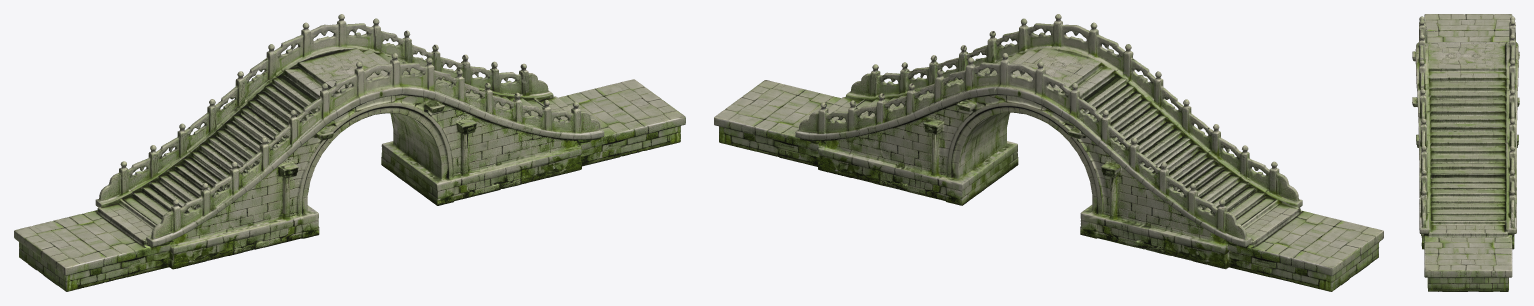
The model's file is Meshy_AI_Ancient_Stone_Arch_Br_1016064107_texture.fbx.
The picture shows the model from 3 angles, left to right: view 1: azimuth 30°, elevation 25°; view 2: azimuth 150°, elevation 25°; view 3: azimuth 270°, elevation 25°; orthographic projection. The views are drawn at different scales.
Parts seen in each view (by area): view 1: Mesh_0; view 2: Mesh_0; view 3: Mesh_0.
Boxes of the visible parts, <box> form: Mesh_0: <box>14,14,685,291</box>; Mesh_0: <box>714,14,1383,291</box>; Mesh_0: <box>1412,14,1519,291</box>.
Bounding box in the file's own units: 190 × 47.47 × 33.64.
1 material, 1 textured.
